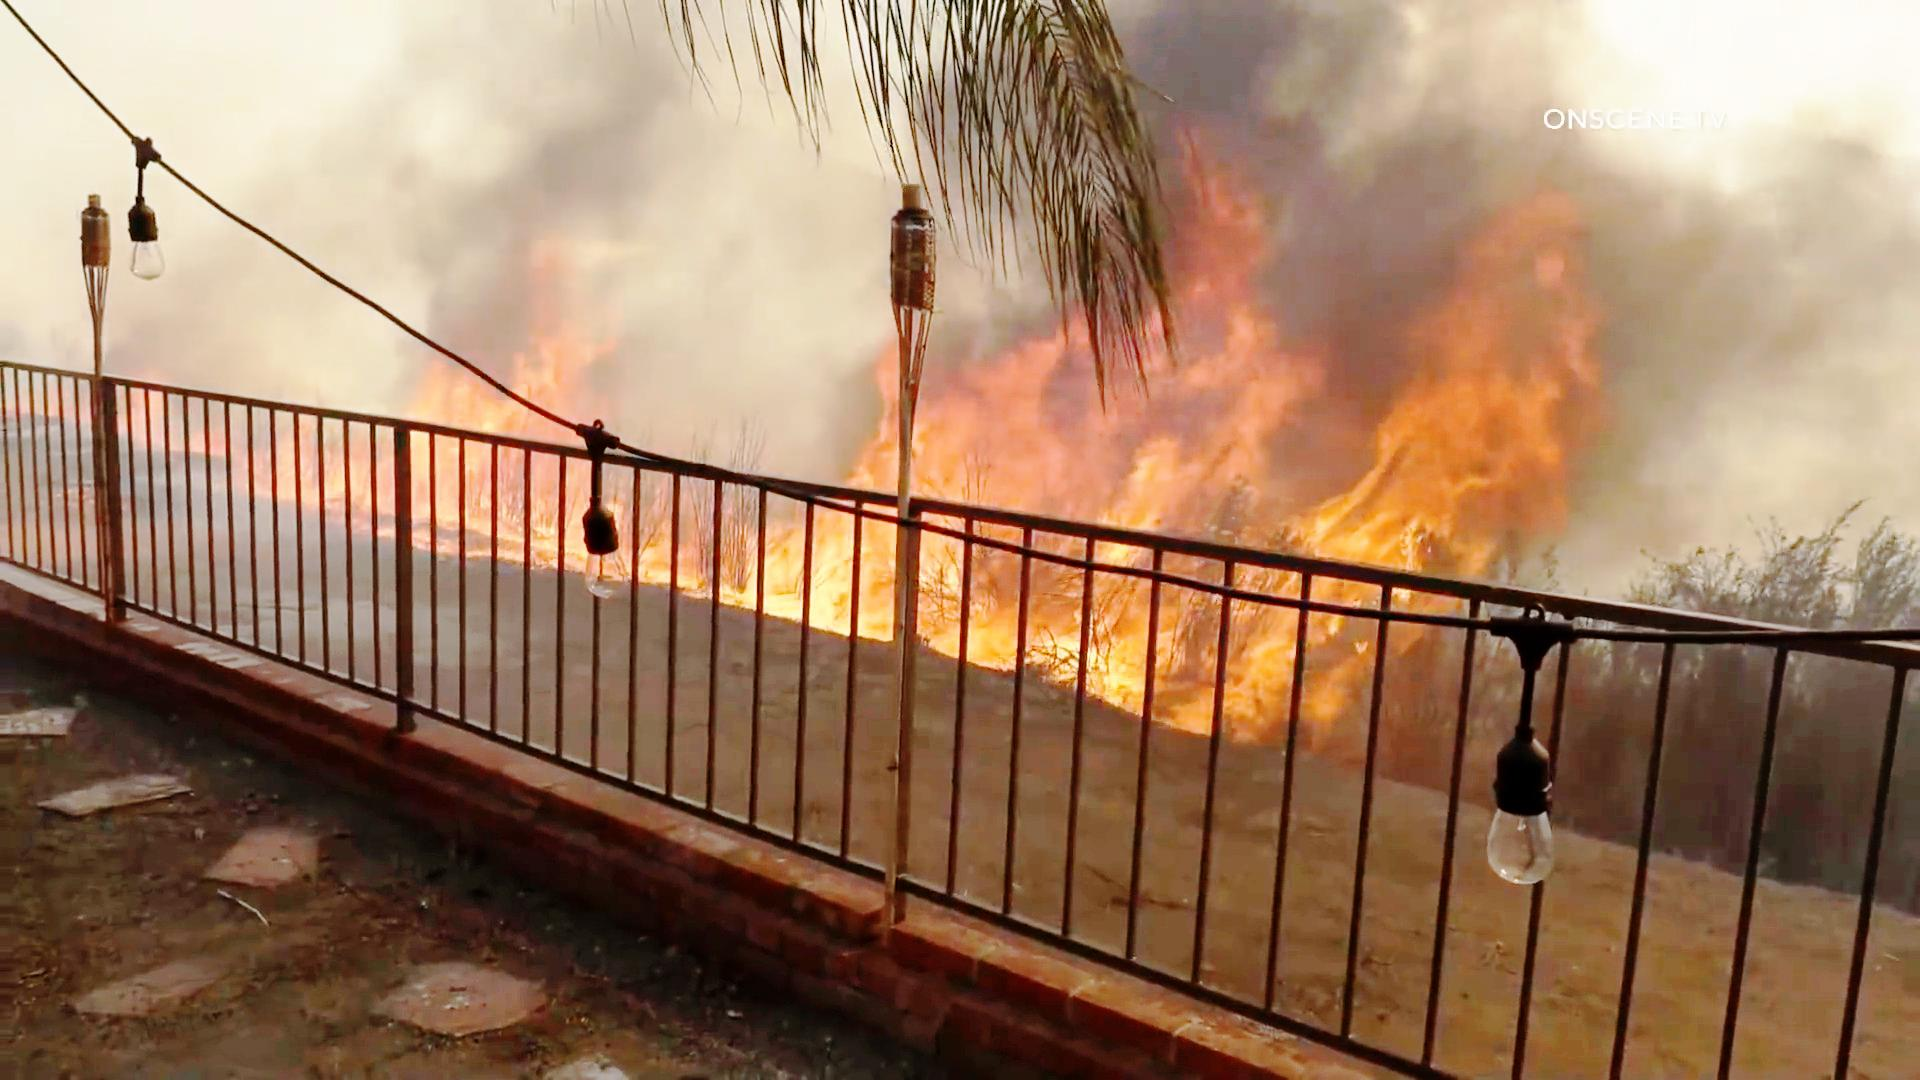fire: (1302, 189, 1596, 542), (926, 533, 1381, 740), (1146, 125, 1292, 553), (426, 356, 593, 583), (926, 348, 1131, 521), (749, 524, 895, 622)
smoke: (1615, 183, 1892, 460), (385, 13, 640, 298), (1124, 5, 1516, 125)
